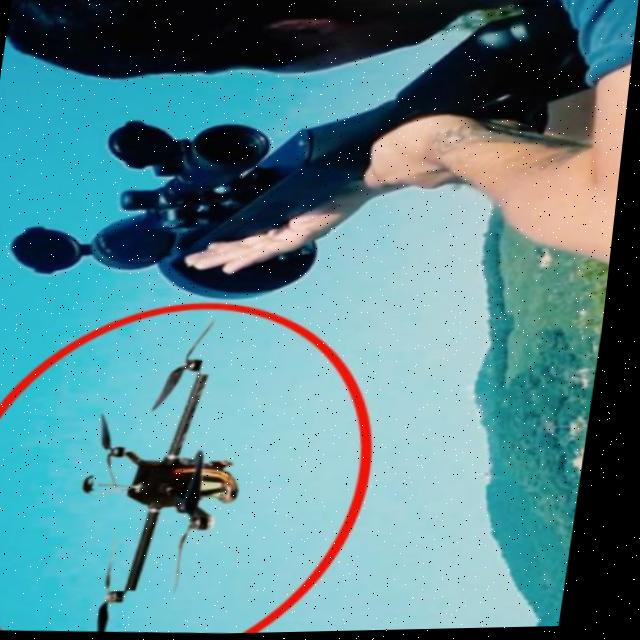drones: (26, 322, 301, 639)
